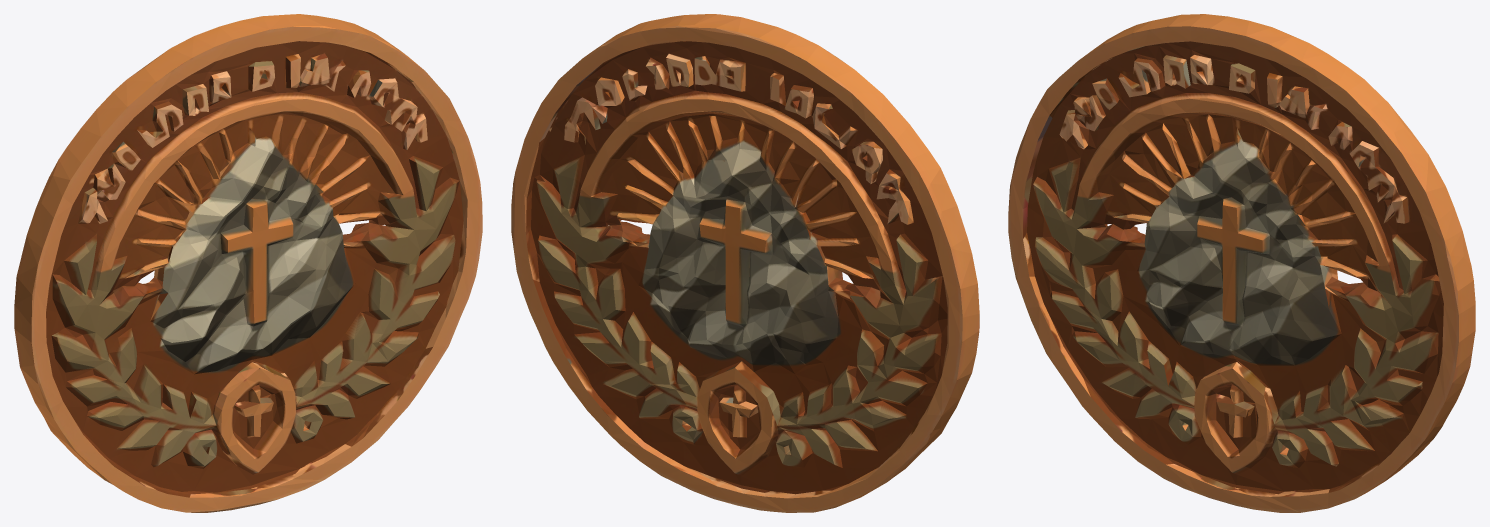
Rendered from inspirational-christian-challenge-coin---the-lord-.glb.
3 renders of one model, left to right at view 1: azimuth 30°, elevation 25°; view 2: azimuth 150°, elevation 25°; view 3: azimuth 330°, elevation 25°, orthographic.
Visible parts, largest first — view 1: tmpqzrdi9h1.ply; view 2: tmpqzrdi9h1.ply; view 3: tmpqzrdi9h1.ply.
Part boxes in pixels (bbox=[...]): tmpqzrdi9h1.ply: bbox=[14, 14, 482, 512]; tmpqzrdi9h1.ply: bbox=[511, 14, 979, 512]; tmpqzrdi9h1.ply: bbox=[1008, 14, 1475, 512].
Bounding box in the file's own units: 1.99 × 1.99 × 0.2575.
1 material, 1 textured.
